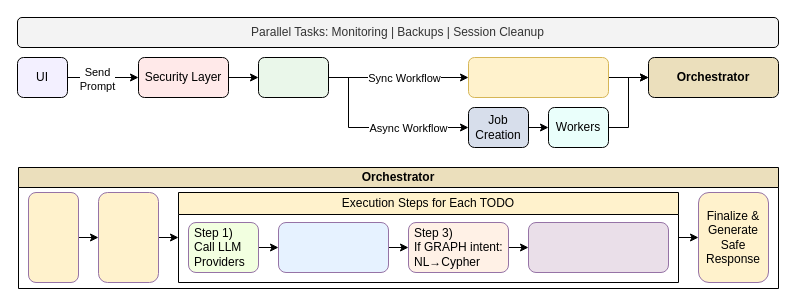
The diagram is 796 pixels wide and 306 high, and some of its shapes have lost their labels. Each missing label, with the box of its shape:
API Layer: (258, 56, 328, 98)
Detect Intent: (28, 192, 78, 282)
Direct Agent Run: (468, 56, 608, 98)
Multi-Step TODO Planning: (98, 192, 158, 282)
Step 2) Invoke Authorized MCP Tools: (278, 222, 388, 272)
Step 4) Persist Steps & Results: Redis + PostgreSQL: (528, 222, 668, 272)
